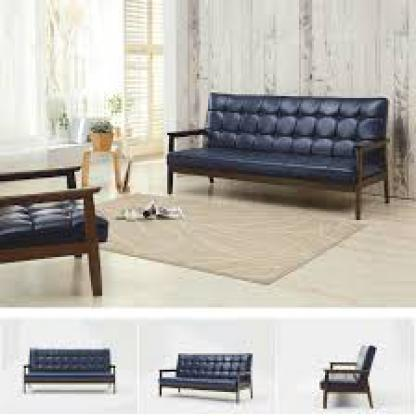sofa: (158, 90, 397, 210)
